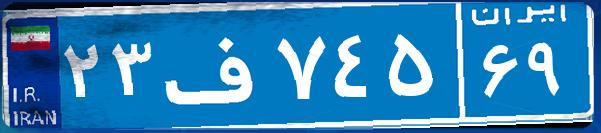2: (57, 26, 110, 107)
3: (110, 28, 158, 105)
4: (330, 28, 385, 110)
5: (385, 28, 445, 110)
6: (475, 38, 525, 113)
7: (273, 28, 330, 110)
9: (525, 38, 570, 115)
ف: (158, 15, 273, 115)
